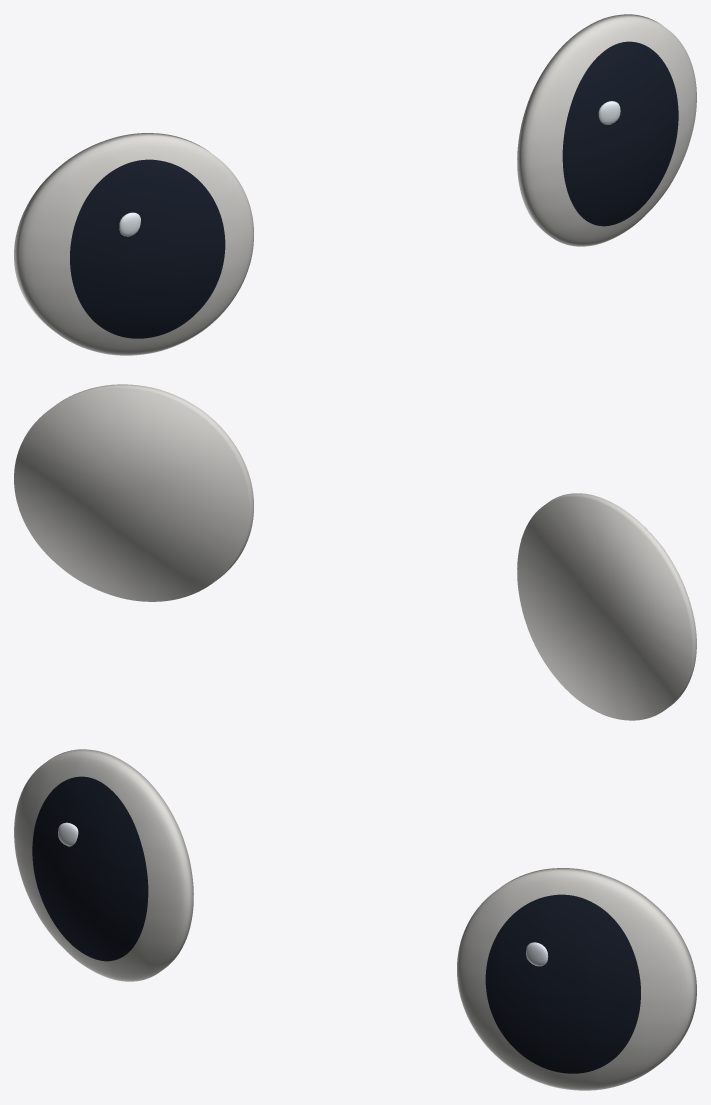
Rendered from Feminine-eyes-soft_white.glb.
3 renders of one model, top to bottom at view 1: azimuth 30°, elevation 25°; view 2: azimuth 150°, elevation 25°; view 3: azimuth 330°, elevation 25°, orthographic.
Visible parts, largest first — view 1: Eye / pupil -1, Eye / soft -1, Eye / pupil 1, Eye / soft 1; view 2: Eye / soft 1, Eye / soft -1; view 3: Eye / pupil 1, Eye / soft 1, Eye / pupil -1, Eye / soft -1.
Boxes of the visible parts, x1,y1,x2,y2 form: Eye / pupil -1: (70,159,225,338); Eye / soft -1: (14,133,253,355); Eye / pupil 1: (562,41,678,226); Eye / soft 1: (517,14,696,246); Eye / soft 1: (14,384,253,601); Eye / soft -1: (517,493,696,720); Eye / pupil 1: (485,894,640,1073); Eye / soft 1: (457,868,696,1090); Eye / pupil -1: (32,776,148,961); Eye / soft -1: (14,749,193,981).
Size of the model in its own units: 0.43 by 0.1301 by 0.046.
